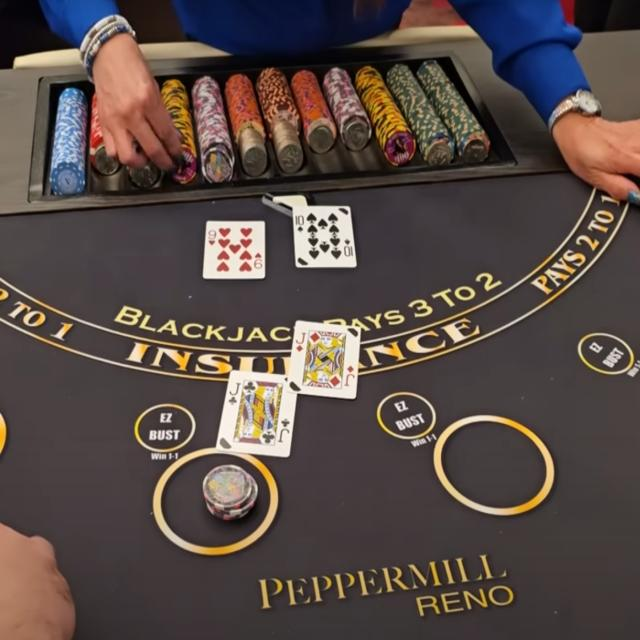10: (294, 213, 305, 226)
9: (208, 228, 218, 241)
J: (228, 381, 241, 396), (296, 330, 306, 346)
